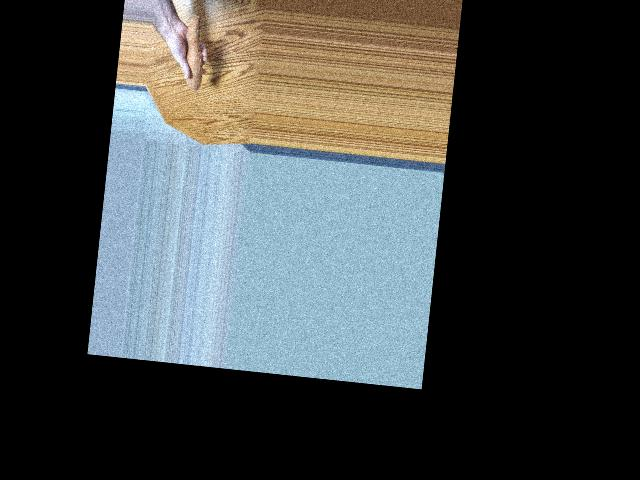sweet_potato: (176, 11, 208, 95)
